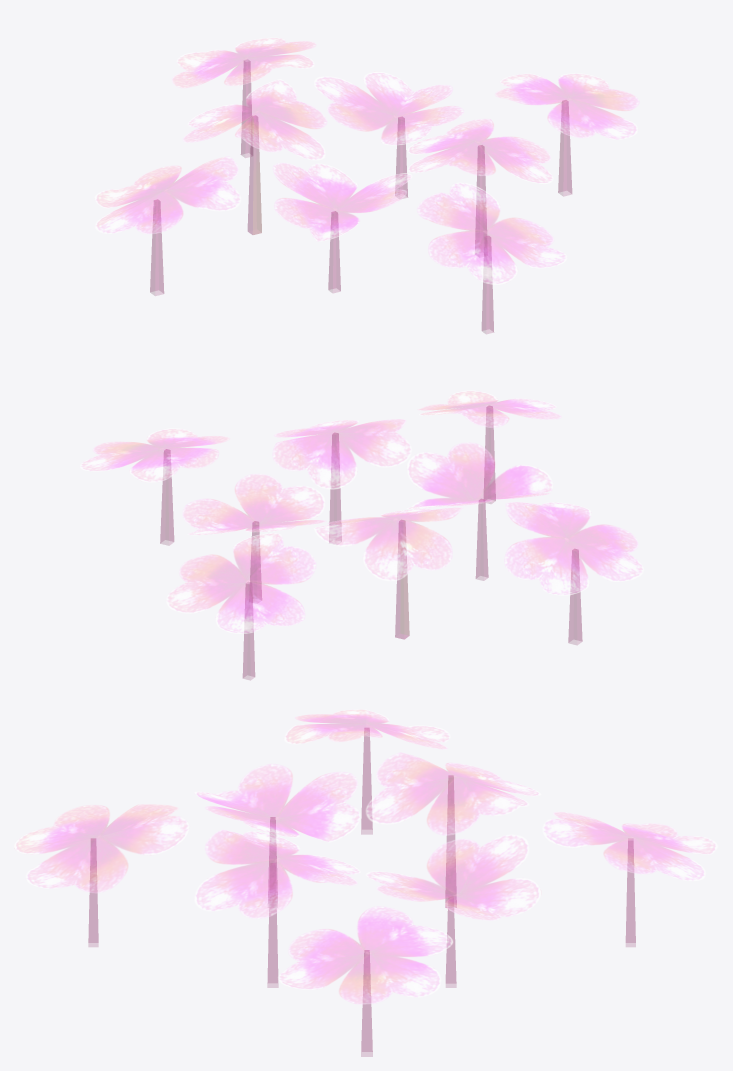
The model's file is Low_Poly_Stylized_Clover_Grass.glb.
3 renders of one model, top to bottom at view 1: azimuth 30°, elevation 25°; view 2: azimuth 150°, elevation 25°; view 3: azimuth 270°, elevation 25°, orthographic. The views are drawn at different scales.
Parts seen in each view (by area): view 1: Plane__0; view 2: Plane__0; view 3: Plane__0.
Boxes of the visible parts, x1=… form: Plane__0: x1=94, y1=37, x2=639, y2=333; Plane__0: x1=80, y1=390, x2=643, y2=680; Plane__0: x1=14, y1=709, x2=717, y2=1056.
Size of the model in its own units: 1.39 by 0.2929 by 1.39.
Materials: 1 (1 with a texture image).
